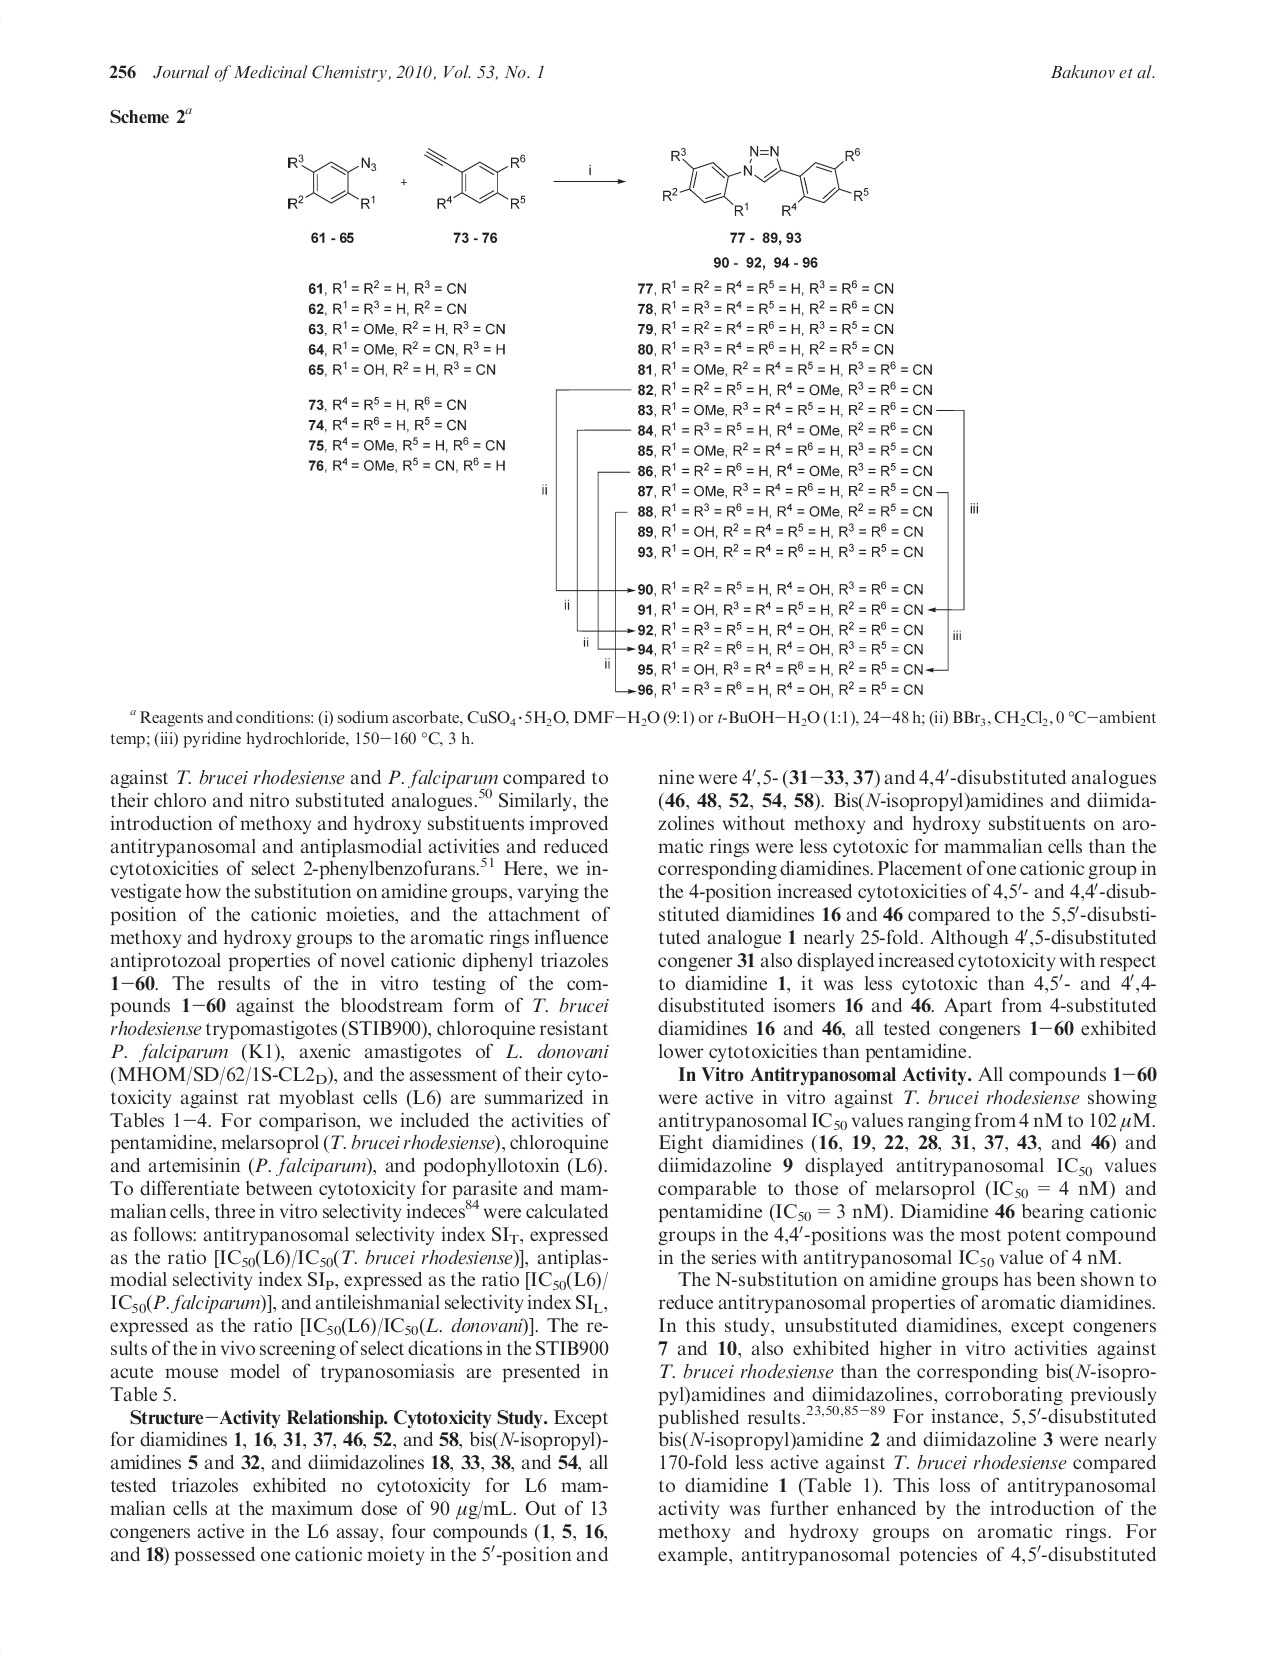exist_molecular: (661, 144, 872, 219), (423, 144, 527, 211), (285, 152, 378, 211)
